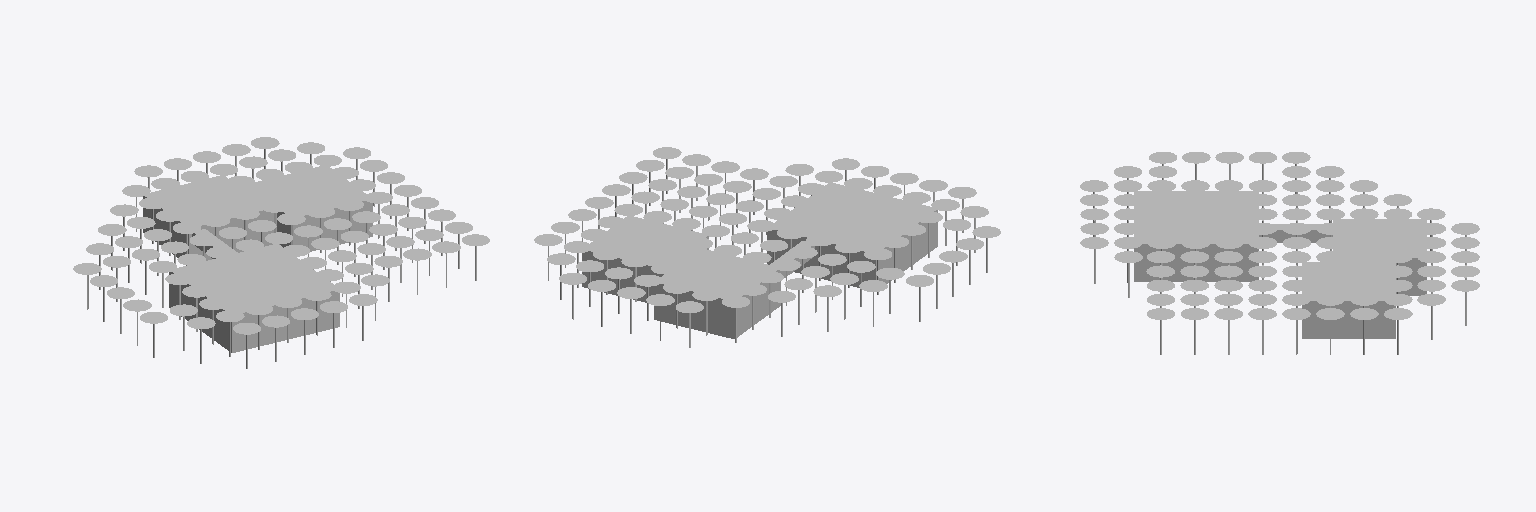
The model's file is inter_low.obj.
3 views of the same model, side by side, from view 1: azimuth 30°, elevation 25°; view 2: azimuth 150°, elevation 25°; view 3: azimuth 270°, elevation 25° (orthographic).
Parts seen in each view (by area): view 1: INTERNATIONAL_UI_MESH; view 2: INTERNATIONAL_UI_MESH; view 3: INTERNATIONAL_UI_MESH.
Part boxes in pixels (x1,y1,x2,y2): INTERNATIONAL_UI_MESH: (73,137,489,368); INTERNATIONAL_UI_MESH: (534,147,1000,347); INTERNATIONAL_UI_MESH: (1080,152,1479,354).
Bounding box in the file's own units: 20.59 × 2.3 × 20.64.